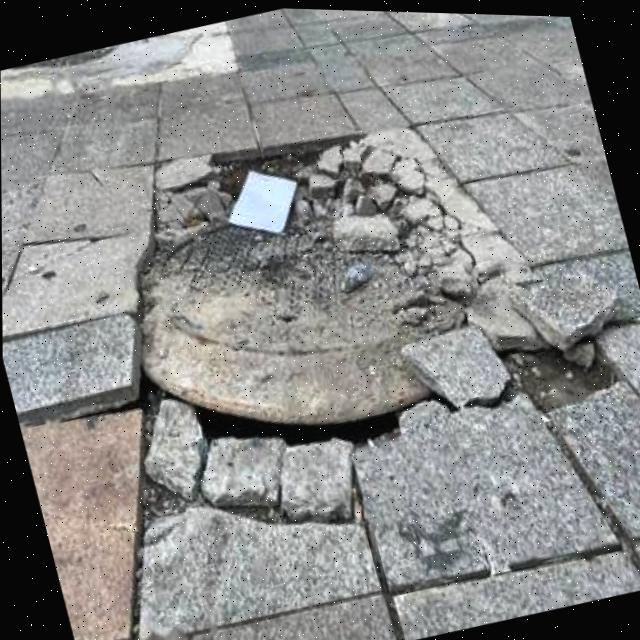manhole: (89, 81, 526, 514)
